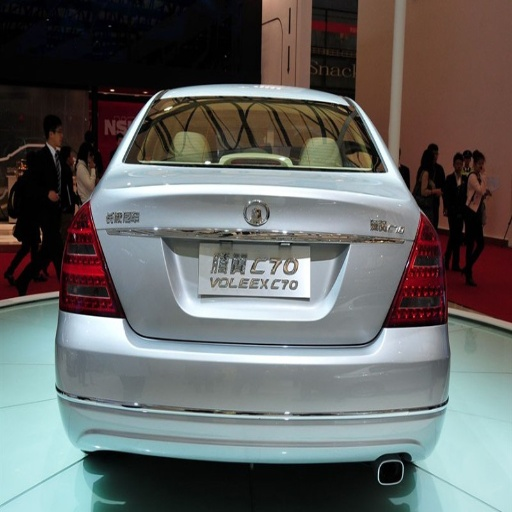back_bumper: (56, 313, 456, 498)
